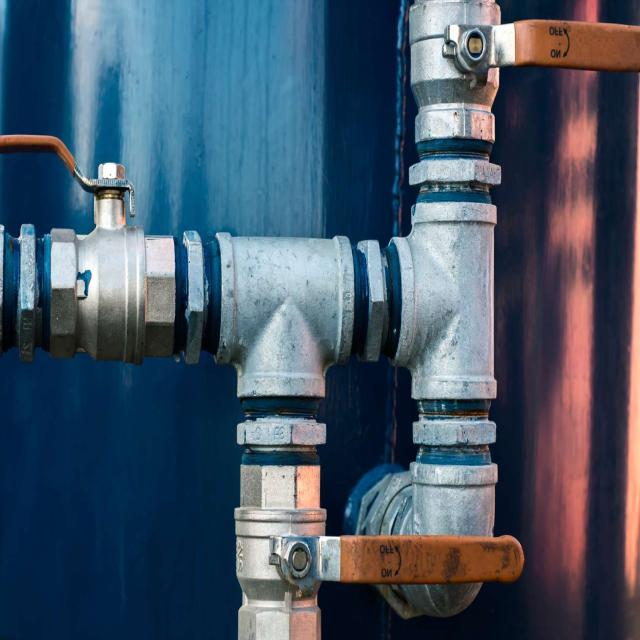Lever Handle Valve Threaded: (410, 0, 640, 187), (0, 130, 178, 364), (237, 509, 524, 640)
